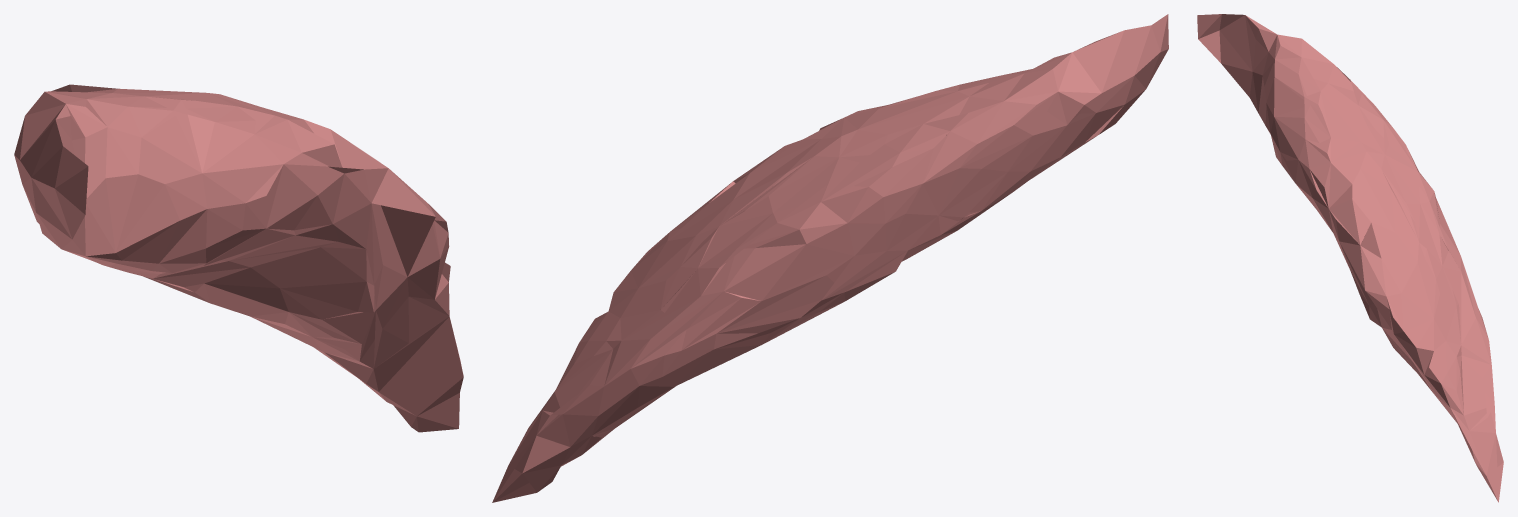
File: Teres_minor_muscle.r.glb
3 views of the same model, side by side, from view 1: azimuth 30°, elevation 25°; view 2: azimuth 150°, elevation 25°; view 3: azimuth 270°, elevation 25° (orthographic). The views are drawn at different scales.
Parts seen in each view (by area): view 1: Teres_minor_muscle.r; view 2: Teres_minor_muscle.r; view 3: Teres_minor_muscle.r.
Part boxes in pixels (<box>): Teres_minor_muscle.r: <box>14,84,463,432</box>; Teres_minor_muscle.r: <box>492,14,1168,502</box>; Teres_minor_muscle.r: <box>1197,14,1503,502</box>.
Bounding box in the file's own units: 0.0933 × 0.0855 × 0.0725.
